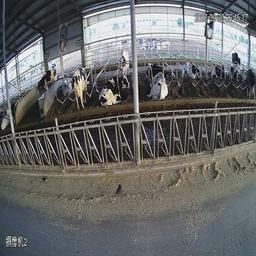cow: (95, 67, 131, 109), (69, 61, 88, 113), (147, 74, 170, 107), (36, 65, 59, 95), (183, 52, 201, 78), (230, 44, 242, 78), (245, 65, 255, 99), (118, 43, 130, 71), (212, 60, 227, 81)
